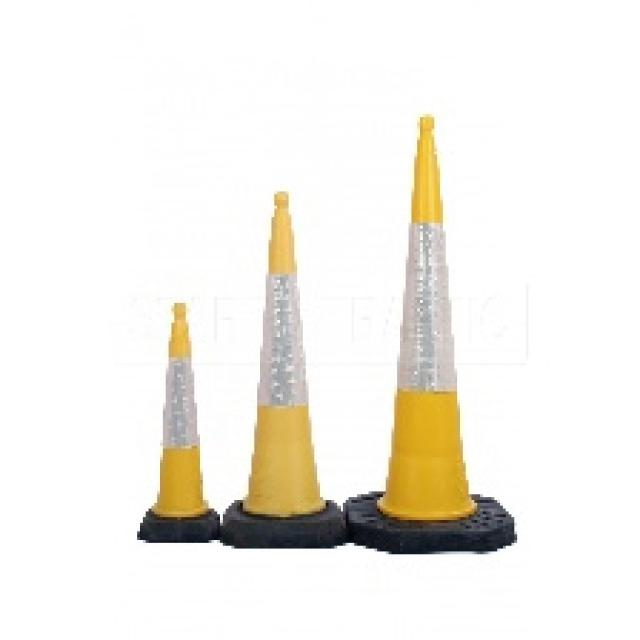cone: (343, 110, 524, 562), (220, 191, 346, 558), (128, 302, 223, 552)
